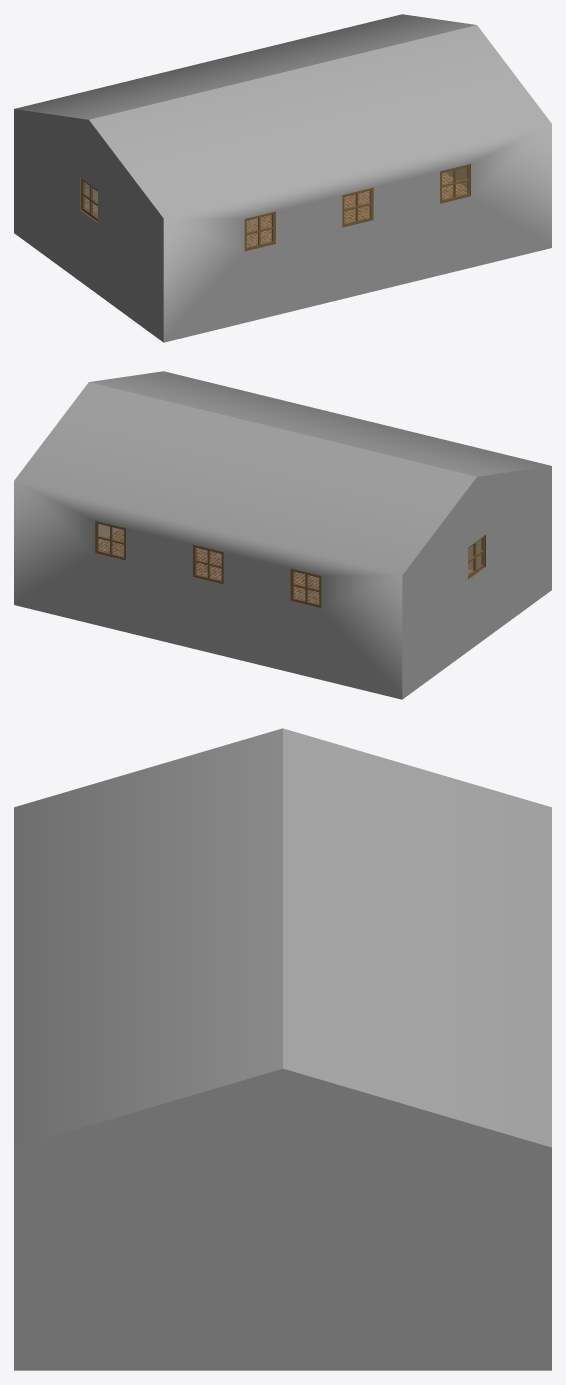
The model's file is Buildng - with textures.fbx.
3 views of the same model, one above another, from view 1: azimuth 30°, elevation 25°; view 2: azimuth 150°, elevation 25°; view 3: azimuth 270°, elevation 25° (orthographic). The views are drawn at different scales.
Parts seen in each view (by area): view 1: polySurface3, pasted__pasted__pasted__pasted__pCube13, pasted__pasted__pasted__pasted__pasted__pCube13, pasted__pasted__pasted__pCube13; view 2: polySurface3, pCube13, pasted__pCube13, pasted__pasted__pCube13; view 3: polySurface3.
Part boxes in pixels (left/top/right/bottom): polySurface3: left=14, top=14, right=551, bottom=342; pasted__pasted__pasted__pasted__pCube13: left=344, top=191, right=370, bottom=223; pasted__pasted__pasted__pasted__pasted__pCube13: left=442, top=167, right=467, bottom=199; pasted__pasted__pasted__pCube13: left=247, top=215, right=272, bottom=247; polySurface3: left=14, top=371, right=551, bottom=699; pCube13: left=195, top=548, right=221, bottom=580; pasted__pCube13: left=98, top=524, right=123, bottom=556; pasted__pasted__pCube13: left=293, top=572, right=318, bottom=604; polySurface3: left=14, top=728, right=551, bottom=1370.
Bounding box in the file's own units: 13.91 × 5.76 × 9.29.
